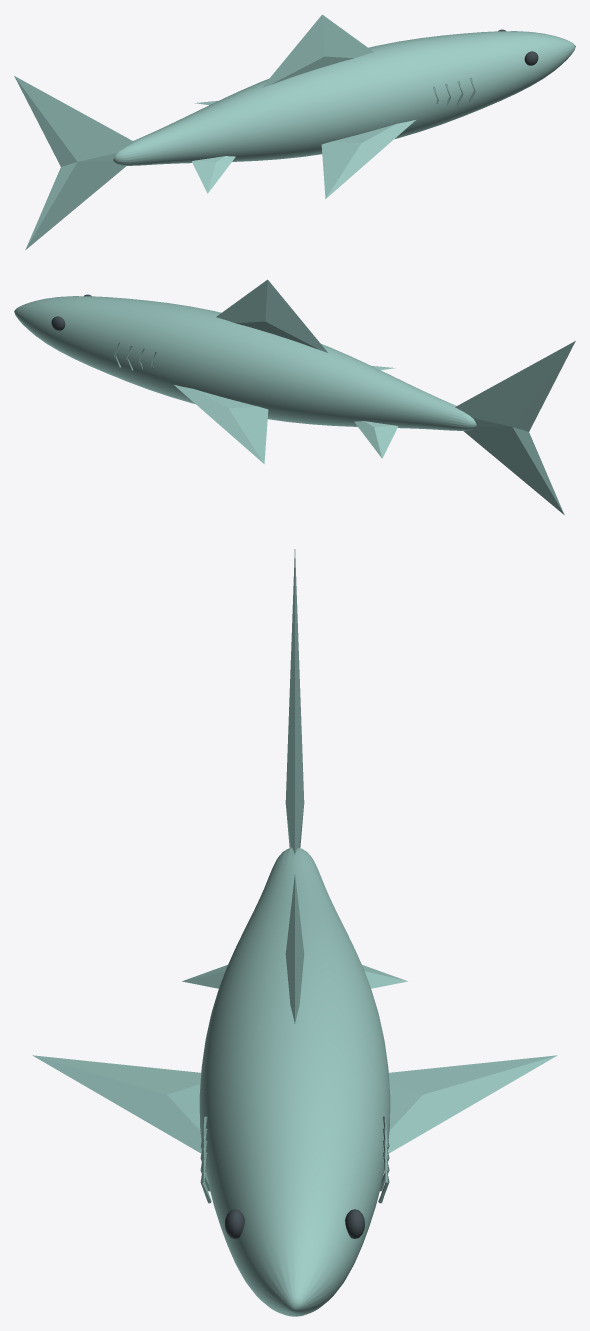
The picture shows the model from 3 angles, top to bottom: view 1: azimuth 30°, elevation 25°; view 2: azimuth 150°, elevation 25°; view 3: azimuth 270°, elevation 25°; orthographic projection. The views are drawn at different scales.
Visible parts, largest first — view 1: Body, Tail, Dorsal, Pectoral, Pelvic; view 2: Body, Tail, Dorsal, Pectoral.001, Pelvic.001; view 3: Body, Pectoral.001, Pectoral, Tail, Dorsal.
Part boxes in pixels (x1,y1,x2,y2): Body: (113, 31, 575, 165); Tail: (14, 76, 134, 249); Dorsal: (262, 14, 373, 87); Pectoral: (321, 120, 415, 198); Pelvic: (192, 156, 235, 193); Body: (14, 296, 476, 430); Tail: (455, 341, 575, 514); Dorsal: (216, 279, 327, 352); Pectoral.001: (174, 385, 268, 463); Pelvic.001: (354, 421, 397, 458); Body: (199, 847, 390, 1316); Pectoral.001: (388, 1055, 557, 1153); Pectoral: (32, 1055, 201, 1153); Tail: (285, 549, 304, 854); Dorsal: (285, 875, 304, 1023).
Size of the model in its own units: 252 by 76 by 102.
